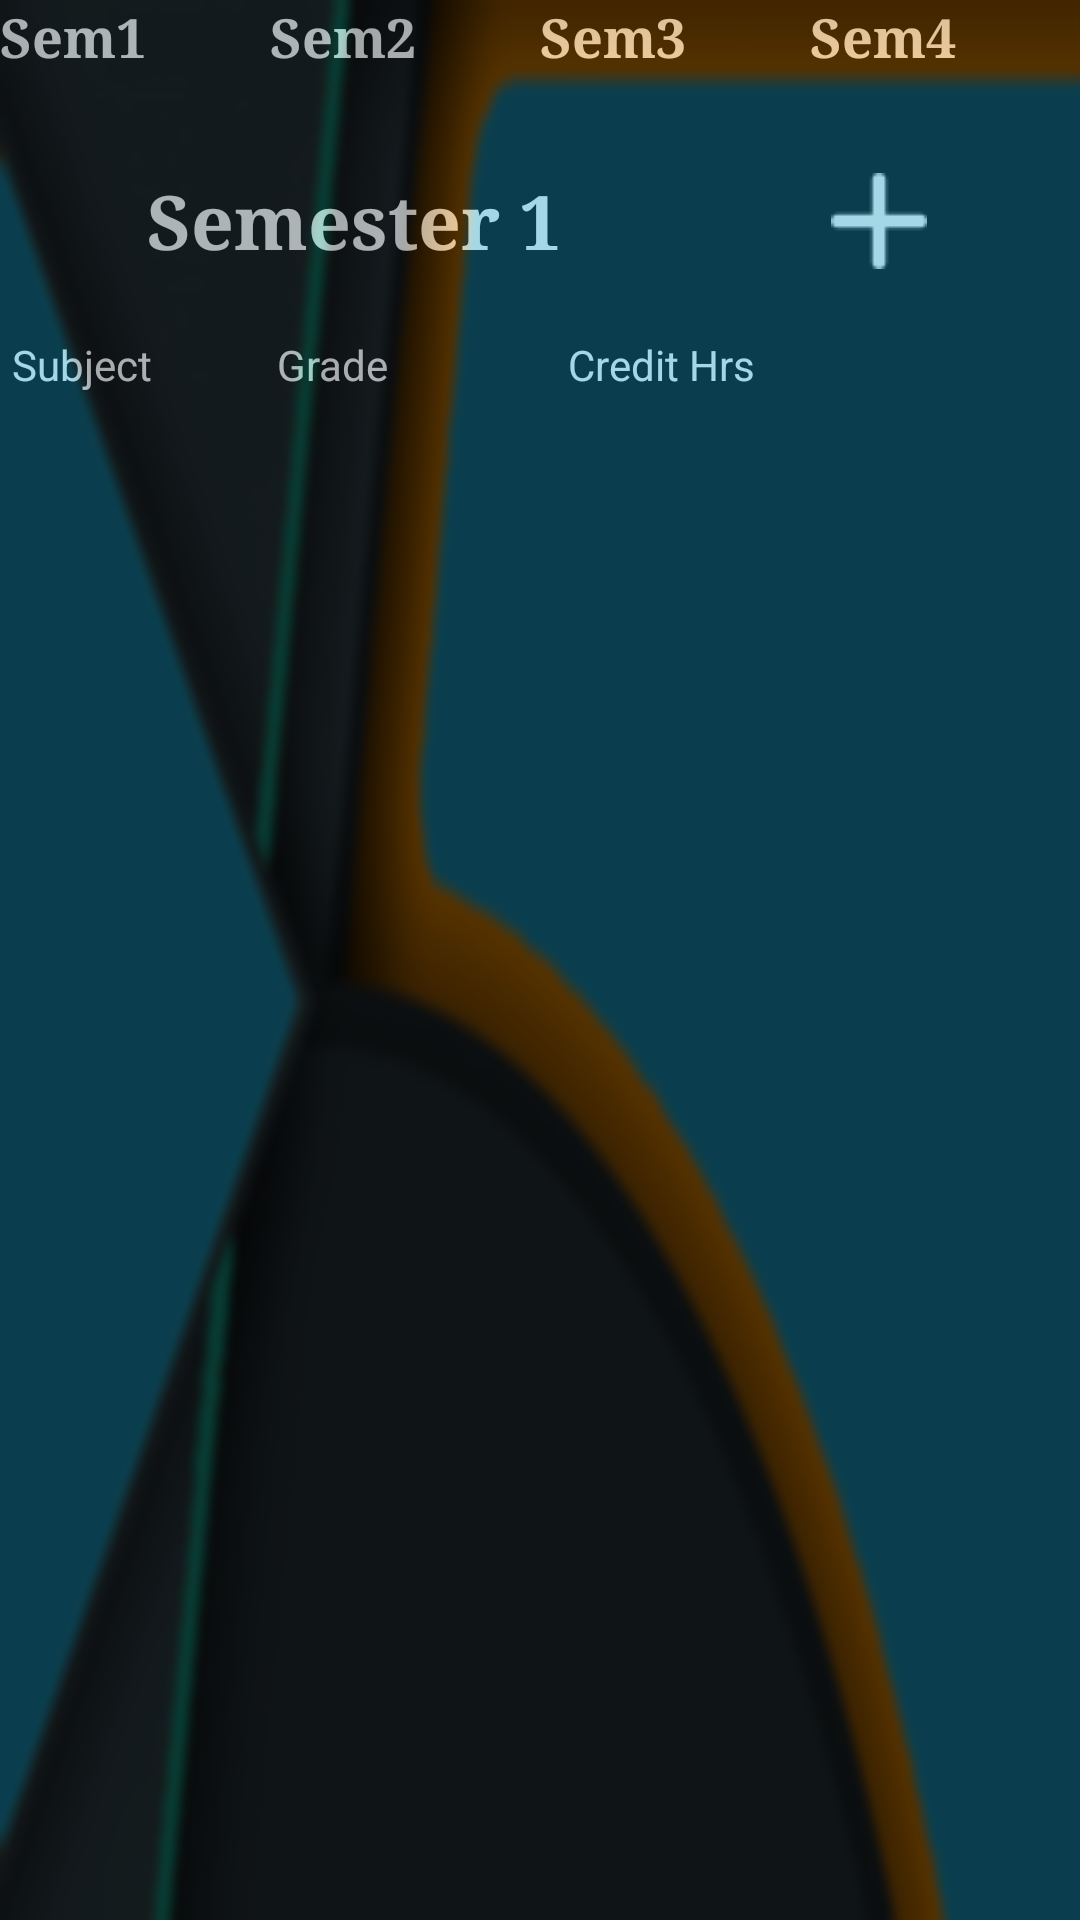

Where to tap for icons on this 1080w x 1920h app screen, as [x,y]:
add: [879,221]
